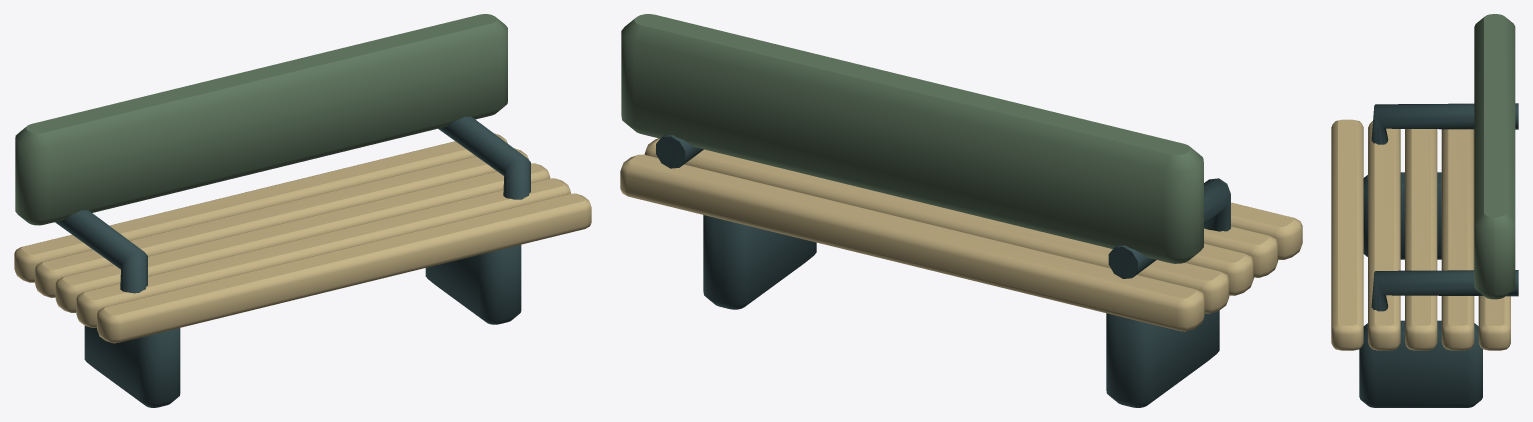
Rendered from bench_3.glb.
3 renders of one model, left to right at view 1: azimuth 30°, elevation 25°; view 2: azimuth 150°, elevation 25°; view 3: azimuth 270°, elevation 25°, orthographic. The views are drawn at different scales.
Visible parts, largest first — view 1: Bench; view 2: Bench; view 3: Bench.
Part boxes in pixels (left/top/right/bottom): Bench: left=14, top=14, right=591, bottom=407; Bench: left=620, top=14, right=1302, bottom=407; Bench: left=1331, top=14, right=1518, bottom=407.
Size of the model in its own units: 2.31 by 1.08 by 0.865.
